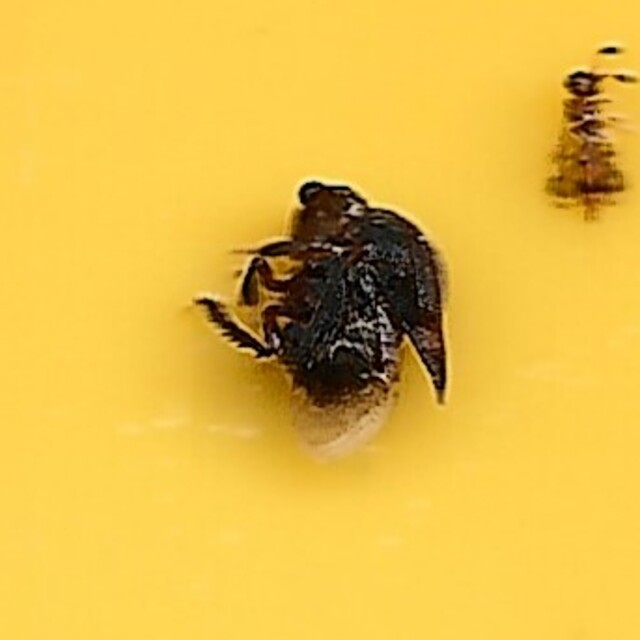Hemiptera: (187, 183, 453, 457)
